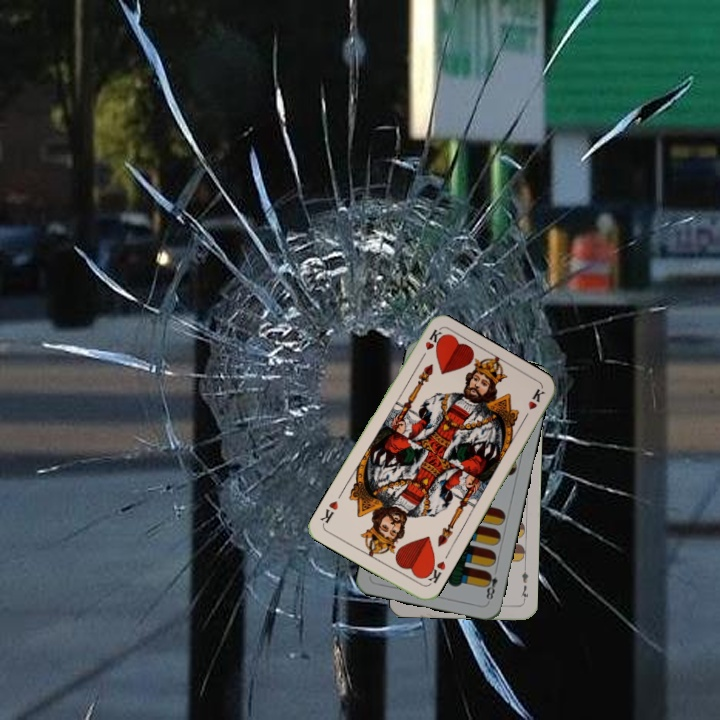E7: (517, 564, 531, 604)
E8: (481, 568, 500, 604)
HK: (416, 325, 444, 364), (421, 556, 448, 588)
